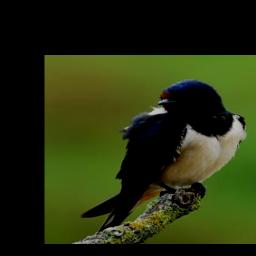Swallow: (79, 78, 248, 234)
